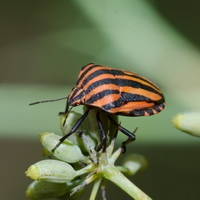insect: (50, 63, 164, 152)
